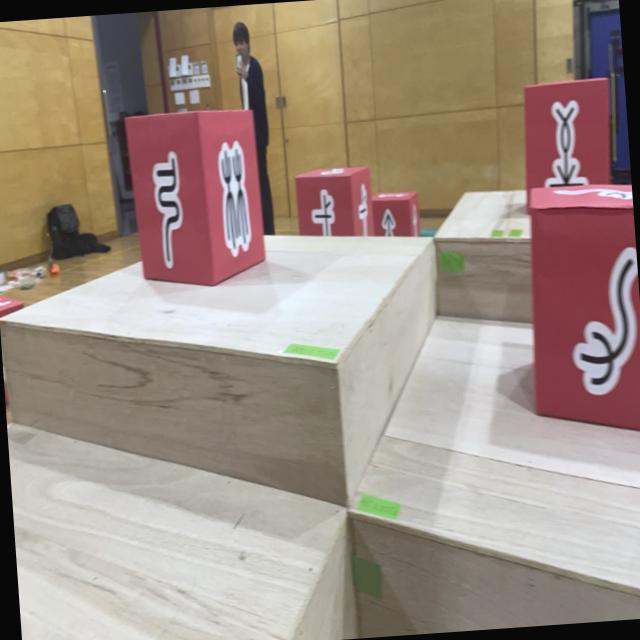12: (380, 207, 397, 237)
13: (563, 244, 640, 397)
2: (215, 138, 253, 256)
4: (150, 151, 187, 270)
7: (539, 99, 591, 189)
9: (308, 189, 337, 239), (355, 183, 372, 239)
fighter: (519, 179, 640, 439), (122, 106, 266, 290), (518, 75, 618, 214), (292, 162, 374, 243), (371, 189, 422, 239)
